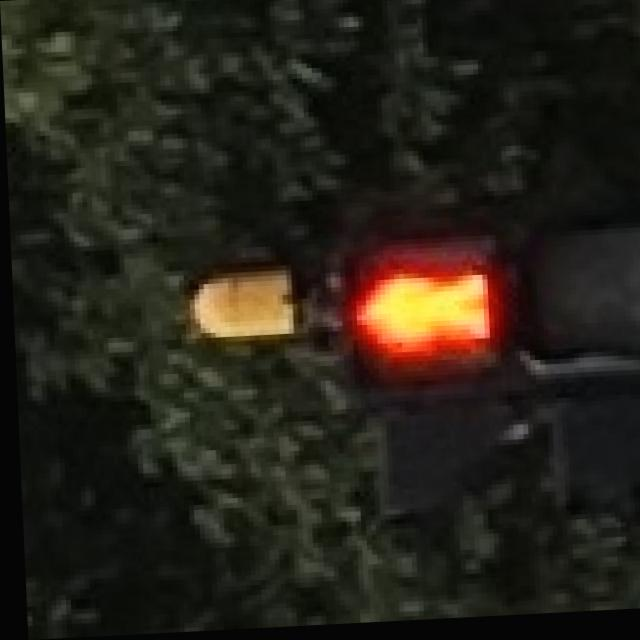red_light: (337, 244, 497, 373)
